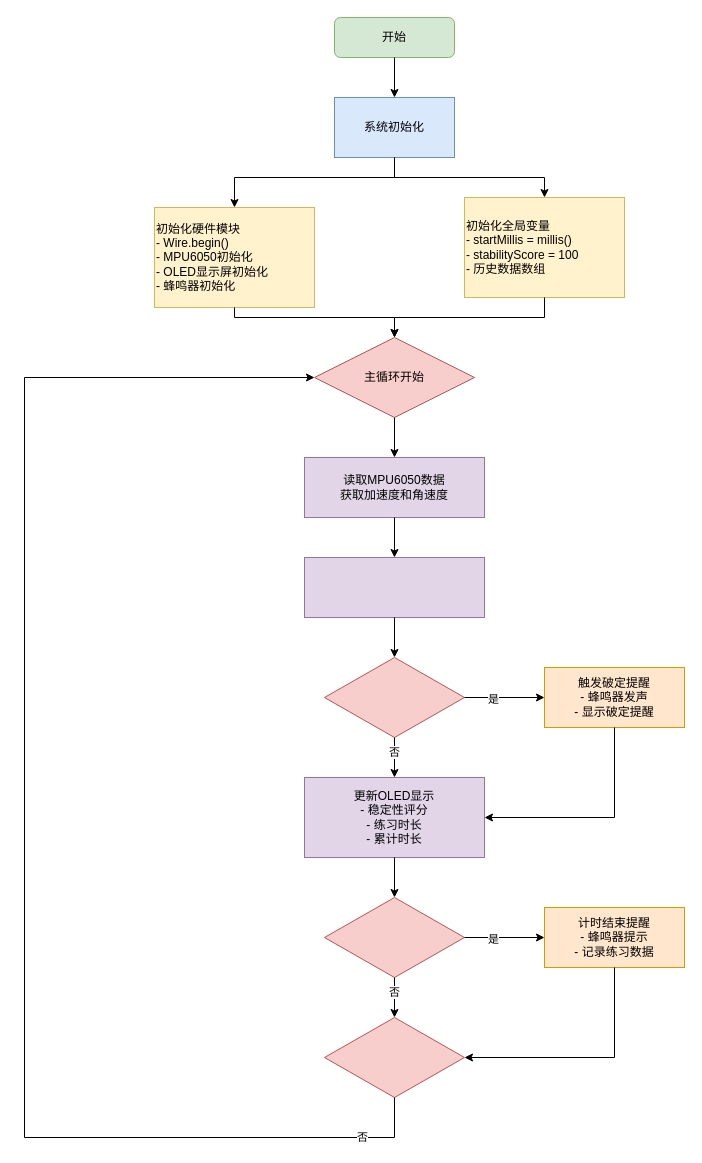
The diagram is 702 pixels wide and 1163 high, and some of its shapes have lost their labels. The shapes that lost their labels are listed below. From the top down, each one's centre as x and y in pixels, then its label:
the point at 394,587: 计算稳定性评分 根据加速度变化率 计算标准差
the point at 394,697: 稳定性评分 < 50?
the point at 394,937: 检查计时器 是否到达设定时间?
the point at 394,1057: 数据同步检查
